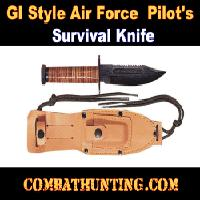knife: (32, 53, 174, 94)
